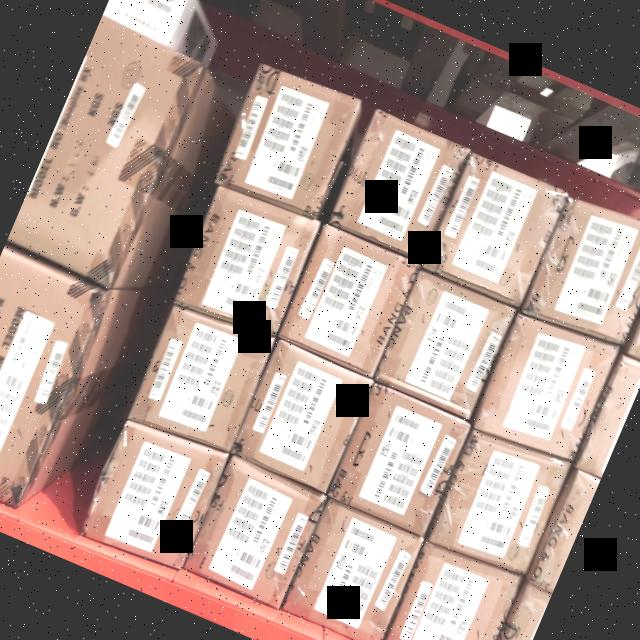box: (216, 66, 359, 222), (328, 384, 469, 535), (130, 309, 270, 456), (425, 156, 564, 304), (84, 422, 224, 568), (186, 458, 324, 606), (474, 317, 614, 462), (280, 229, 418, 376), (233, 344, 371, 491), (178, 189, 318, 333), (377, 272, 514, 416), (331, 114, 466, 258), (283, 503, 421, 640), (431, 432, 566, 572), (525, 199, 640, 341), (383, 541, 520, 640)
